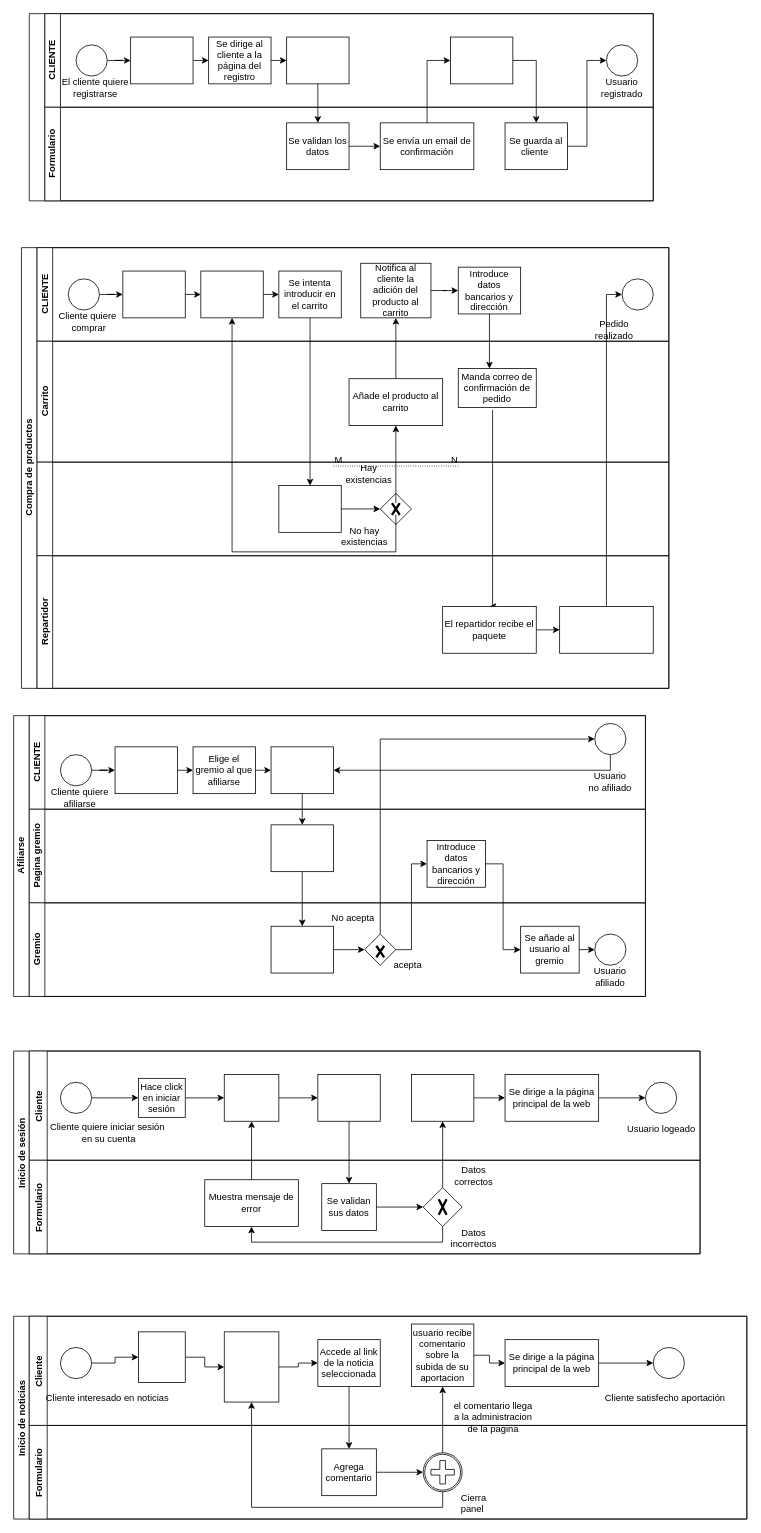
Image size: 761x1533. Some labels were removed from this diagram. The shapes that lost their labels are listed below. From the top down, each one's box as (x1, y1, x2, y2) in pixels, then its label:
(130, 36, 193, 84): Hace clic en el botón de registro
(286, 36, 349, 84): El cliente rellena el formulario
(450, 36, 513, 84): El cliente acepta la confirmación
(28, 13, 653, 201): Registro de Usuarios
(122, 270, 185, 318): Hace clic en el botón de tienda
(200, 270, 263, 318): Elige su producto
(278, 485, 341, 532): Revisa el stock
(36, 461, 669, 556): Almacén
(559, 606, 653, 653): El repartidor entrega el paquete
(114, 746, 177, 794): Hace clic en el botón de gremios
(270, 746, 333, 794): hace click en el apartado de afiliarse
(270, 824, 333, 872): Se envía una petición
(270, 925, 333, 973): El gremio recibe la petición para unirse
(223, 1074, 279, 1121): Se dirige al formulario de inicio de sesión
(317, 1074, 380, 1121): Rellena el formulario con sus datos
(411, 1074, 474, 1121): Usuario logueado
(138, 1331, 185, 1383): Hace click en pestaña noticias
(223, 1331, 279, 1402): Accede a las noticias y se interesa por las mas interesantes
